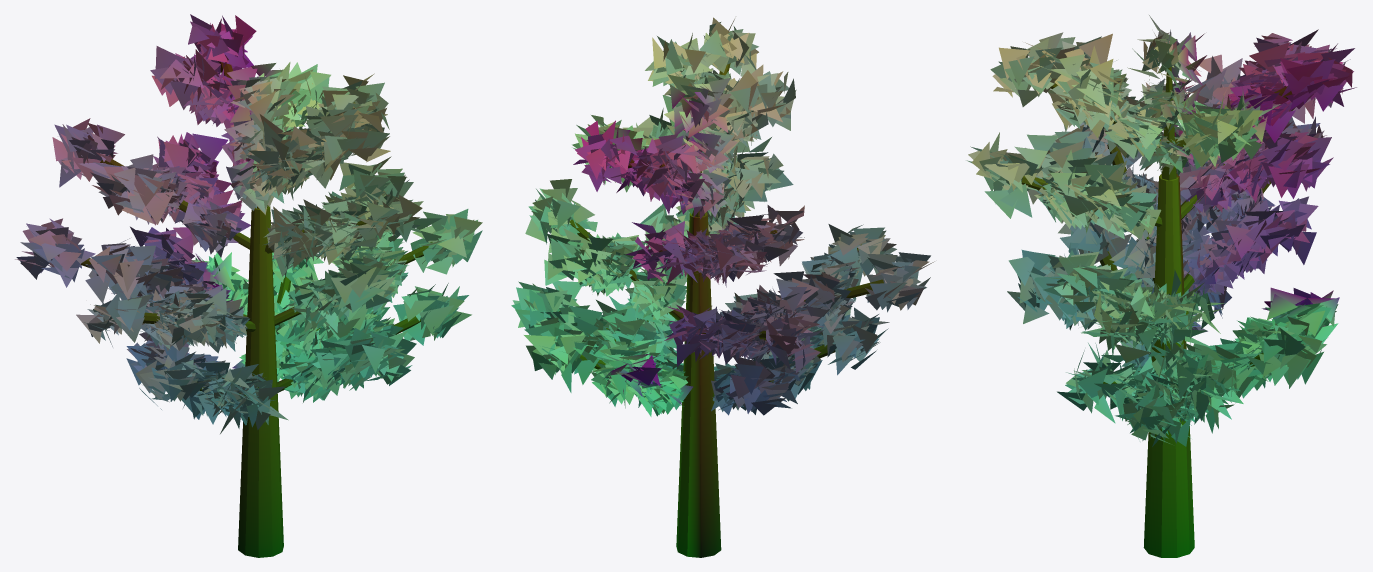
File: ecological_broadleaf_established_01.glb
3 views of the same model, side by side, from view 1: azimuth 30°, elevation 25°; view 2: azimuth 150°, elevation 25°; view 3: azimuth 270°, elevation 25° (orthographic). The views are drawn at different scales.
Parts seen in each view (by area): view 1: ecological_broadleaf_established_01; view 2: ecological_broadleaf_established_01; view 3: ecological_broadleaf_established_01.
Boxes of the visible parts, x1,y1,x2,y2 form: ecological_broadleaf_established_01: (15, 14, 482, 557); ecological_broadleaf_established_01: (511, 17, 934, 557); ecological_broadleaf_established_01: (966, 15, 1356, 557).
Bounding box in the file's own units: 15.42 × 17.54 × 11.99.
